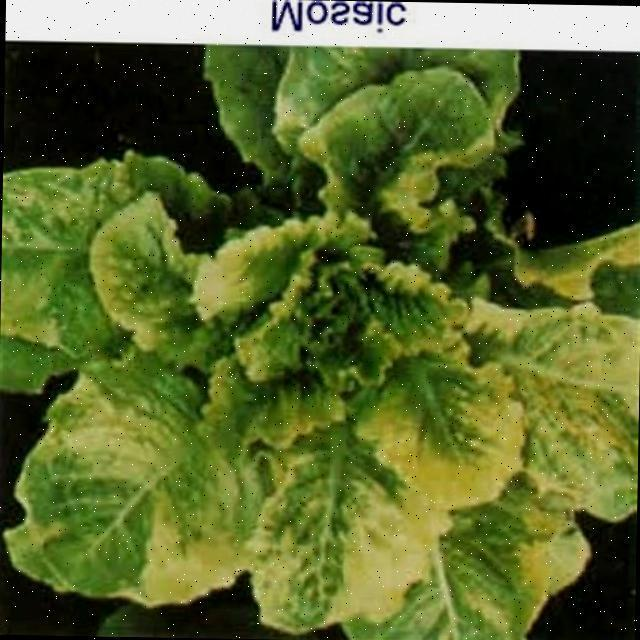Lettuce Mosaic Virus: (12, 62, 598, 605)
